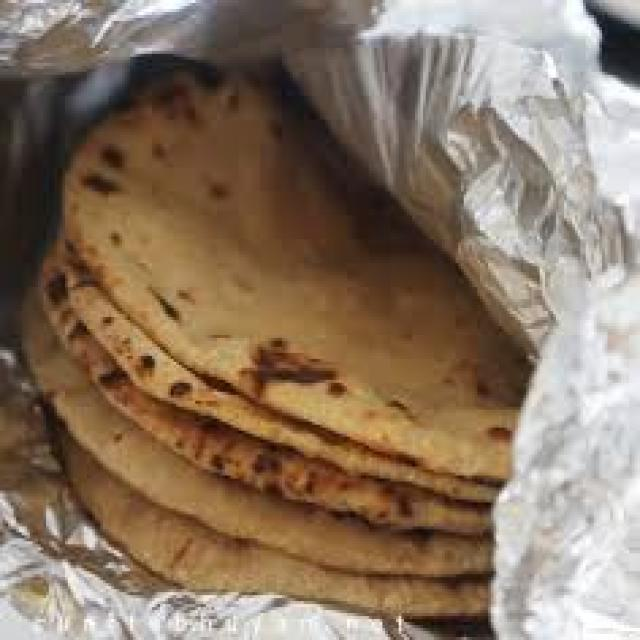ROTI: (60, 81, 513, 487), (43, 245, 485, 568), (73, 443, 477, 613)
